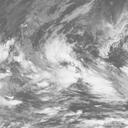cyclone: (32, 37, 93, 95)
